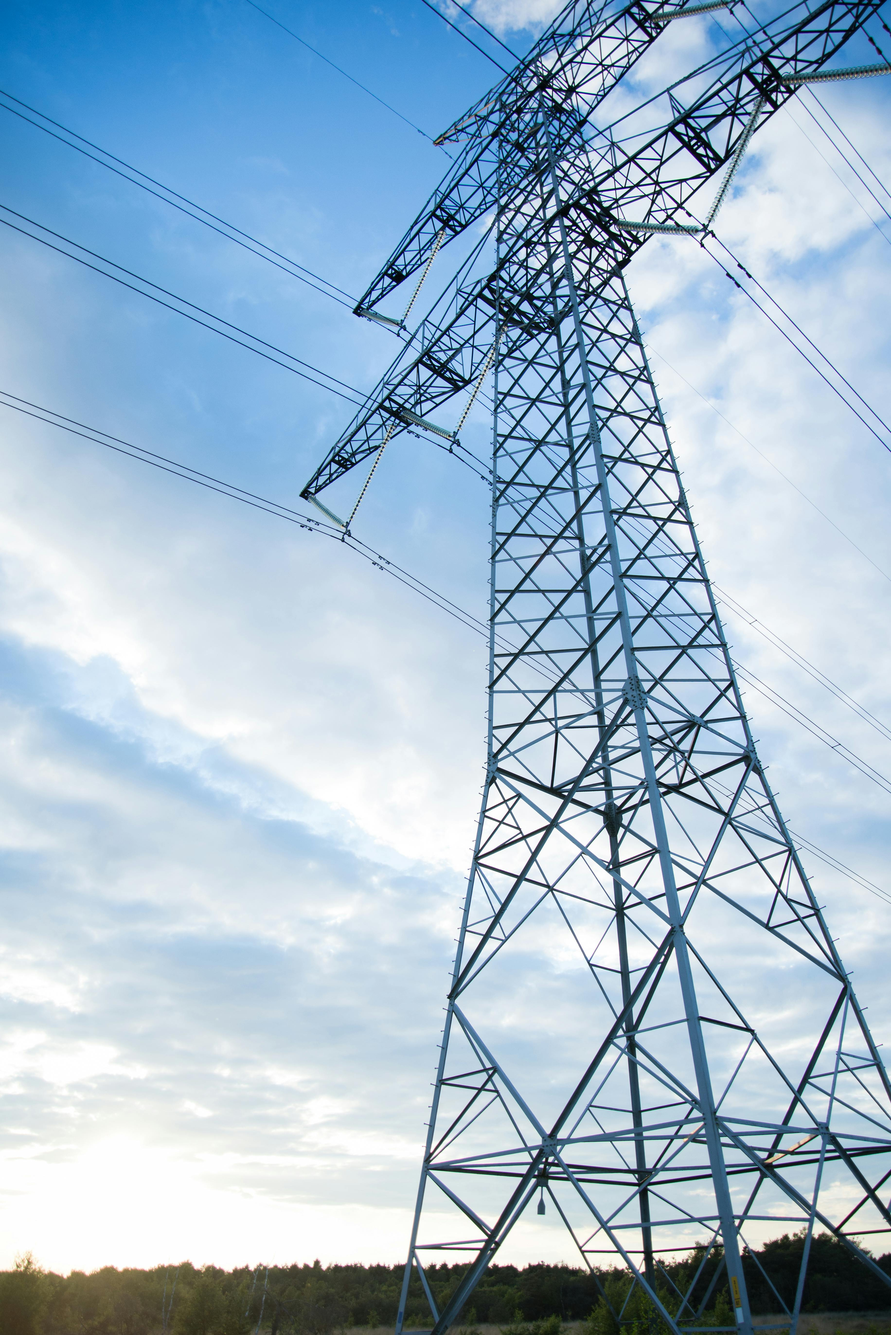insulator: (708, 91, 767, 231), (393, 221, 452, 338), (460, 319, 509, 443), (349, 403, 392, 529), (385, 395, 463, 447), (761, 69, 891, 89), (609, 216, 714, 240), (305, 493, 352, 532)
